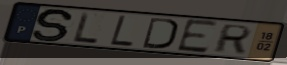D: (141, 16, 180, 50)
E: (175, 18, 221, 55)
L: (72, 10, 100, 45), (108, 14, 135, 48)
R: (211, 23, 254, 55)
S: (30, 8, 77, 43)
